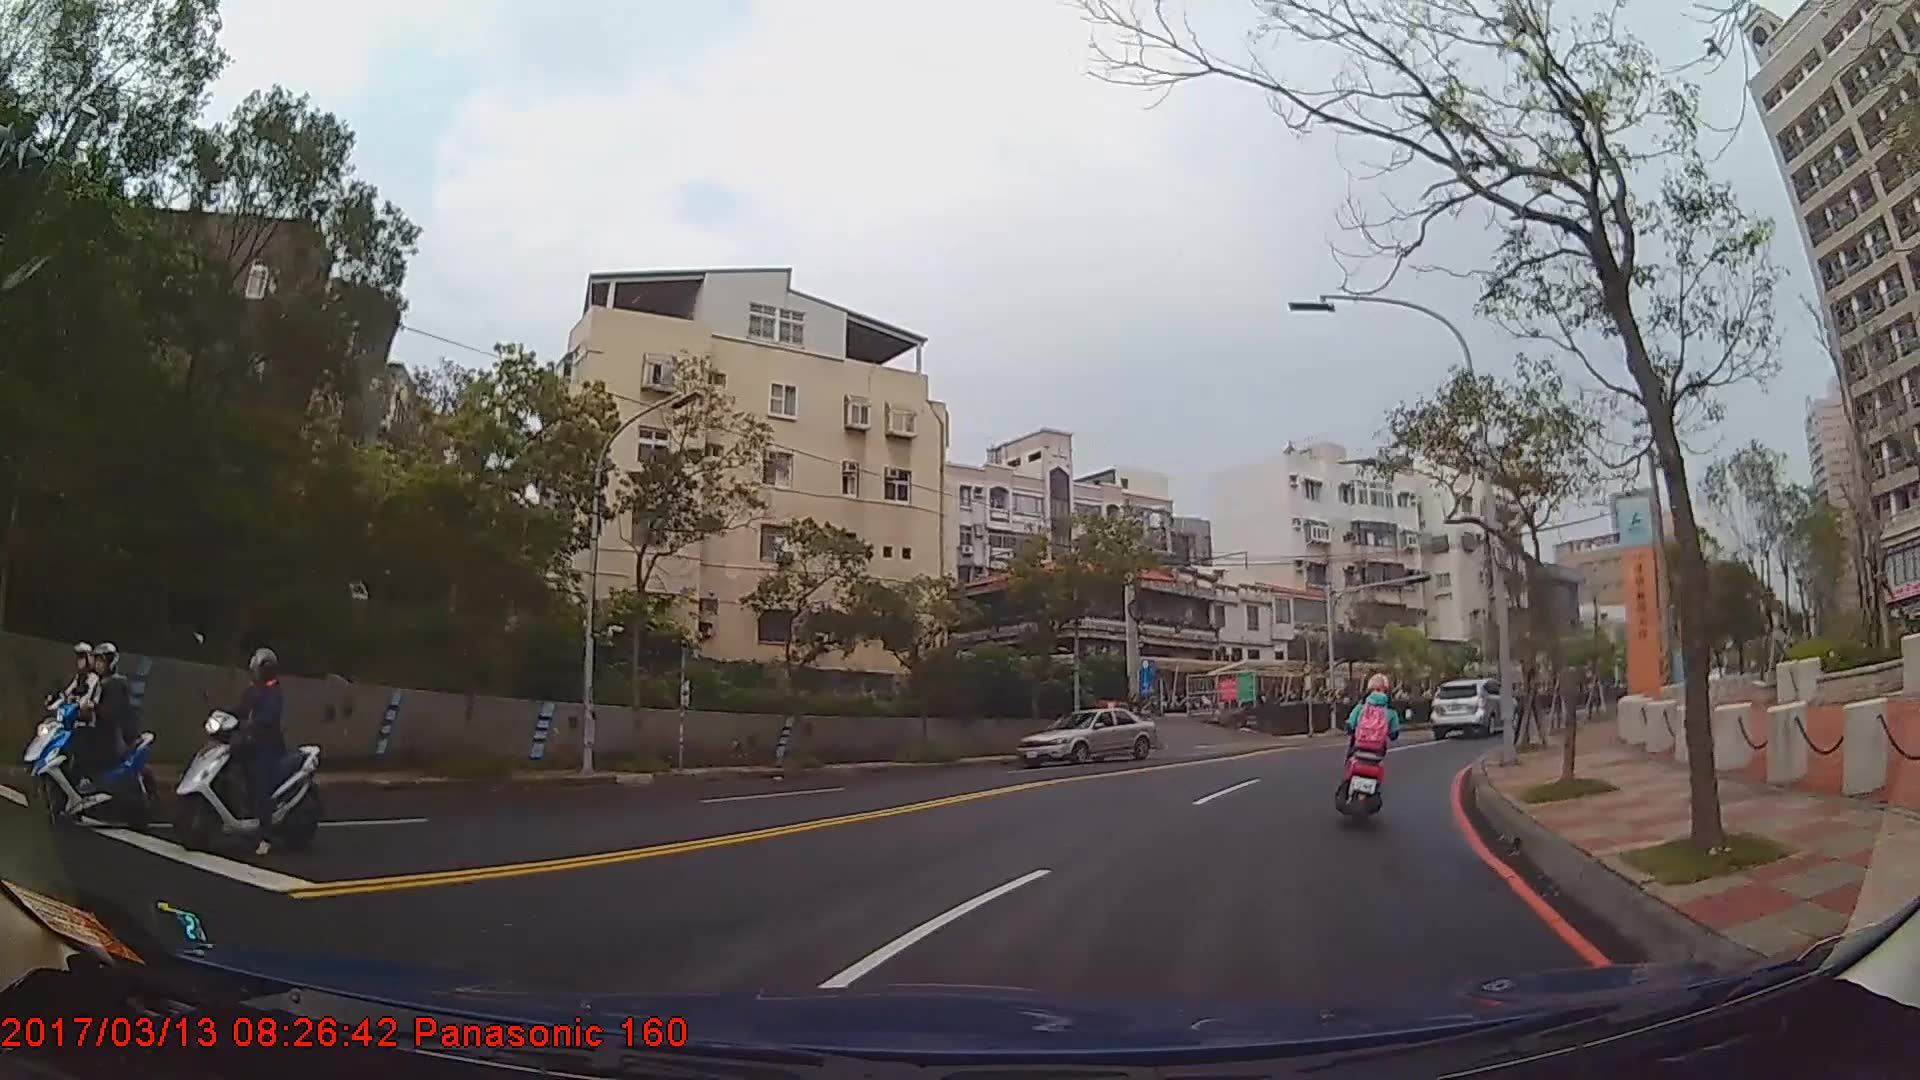rider: (178, 635, 319, 850), (30, 640, 149, 828), (28, 638, 128, 805), (1338, 671, 1403, 811)
vehicle: (1015, 705, 1154, 763), (1428, 673, 1520, 736)
